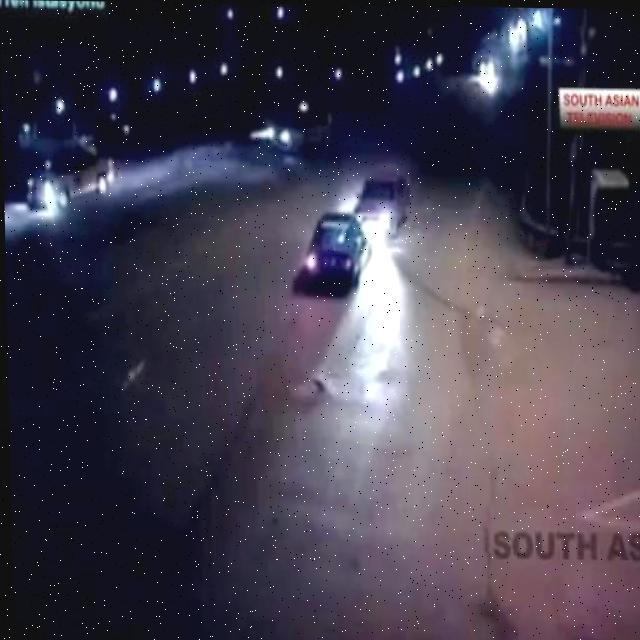multiple_accident: (273, 157, 443, 312)
